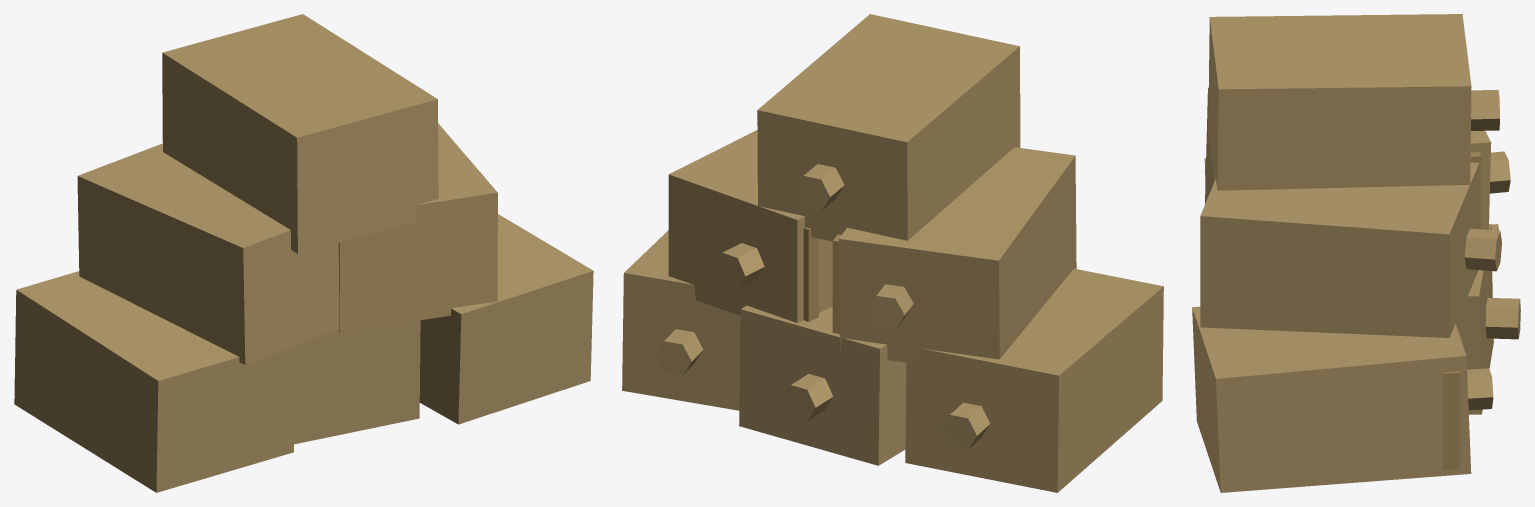
The model's file is mine_sack_pile.glb.
3 renders of one model, left to right at view 1: azimuth 30°, elevation 25°; view 2: azimuth 150°, elevation 25°; view 3: azimuth 270°, elevation 25°, orthographic. The views are drawn at different scales.
Parts seen in each view (by area): view 1: mine_sack_pile; view 2: mine_sack_pile; view 3: mine_sack_pile.
Boxes of the visible parts, left/top/right/bottom form: mine_sack_pile: left=14, top=14, right=593, bottom=492; mine_sack_pile: left=622, top=14, right=1163, bottom=492; mine_sack_pile: left=1192, top=14, right=1520, bottom=492.
Bounding box in the file's own units: 1.33 × 0.8836 × 0.8051.
